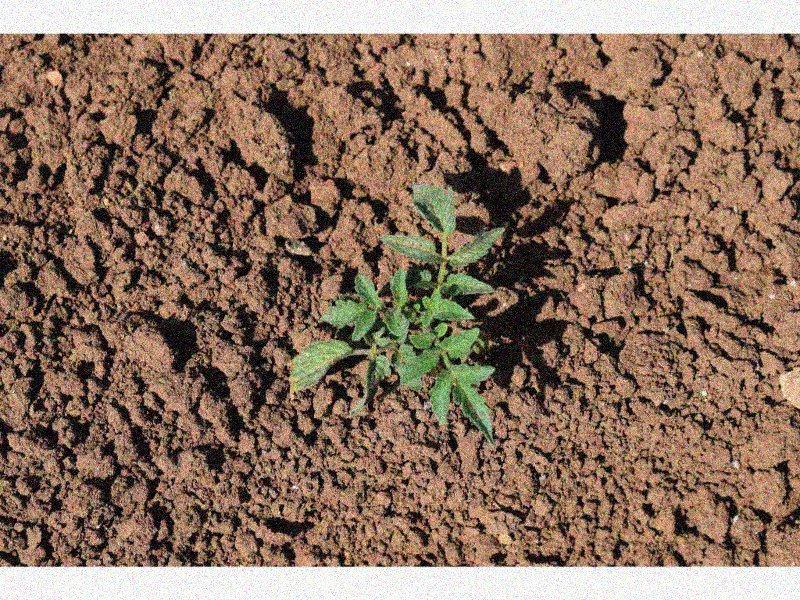tomato: (289, 182, 505, 442)
